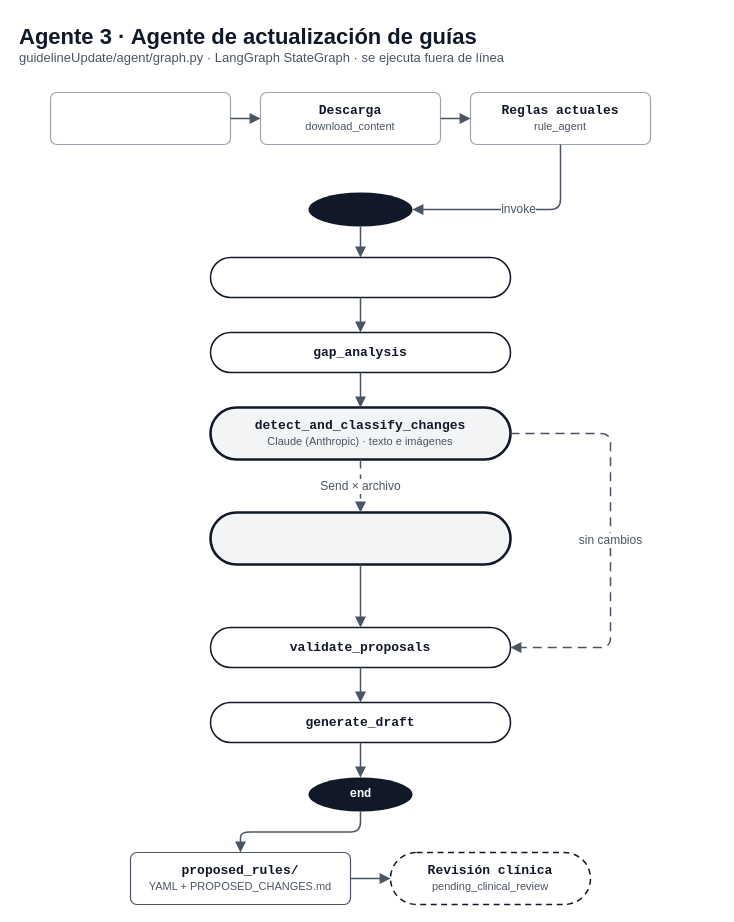
Image size: 734x922. Some labels were removed from this diagram. Here are the shapes that lost their labels. From the top down, the centre of each, then its label:
At point 140,118: "Scraper ESMO search_update".
At point 360,209: "start".
At point 360,277: "parse_context".
At point 360,538: "generate_file_proposal uno por archivo · en paralelo · 2 intentos".
